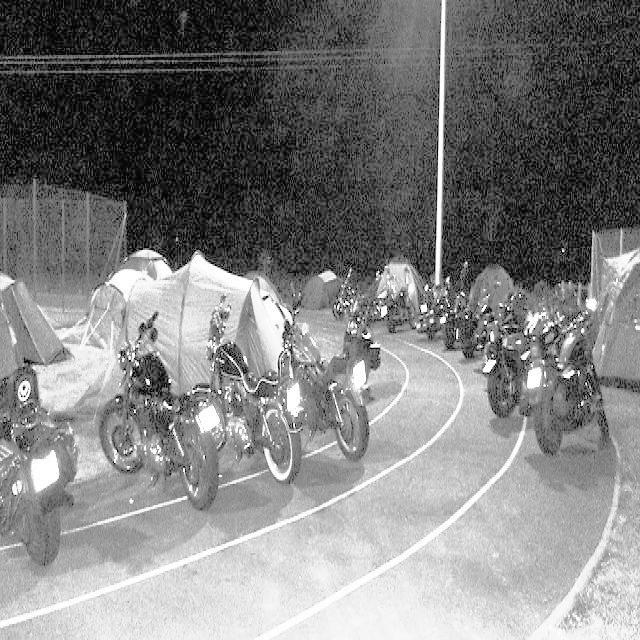Motorcycle: (88, 298, 233, 518), (188, 287, 309, 502), (273, 277, 373, 478), (3, 358, 84, 572), (531, 296, 614, 471), (485, 299, 577, 422), (458, 288, 508, 365), (439, 288, 489, 360), (377, 268, 422, 331), (333, 265, 374, 328), (420, 277, 460, 339)
